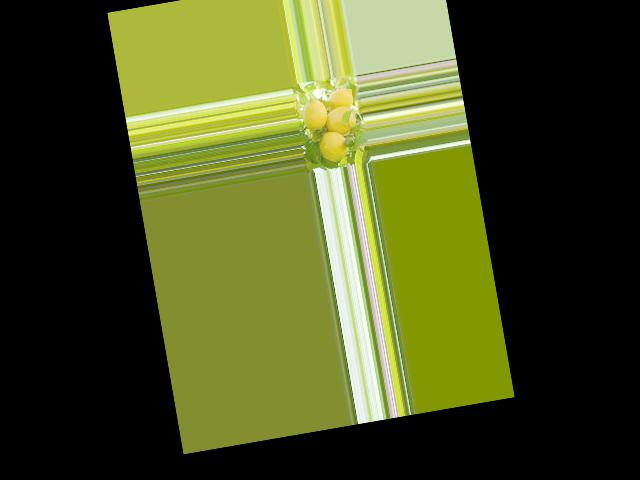lemon: (316, 128, 353, 165)
